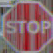Stop: (3, 2, 47, 52)
